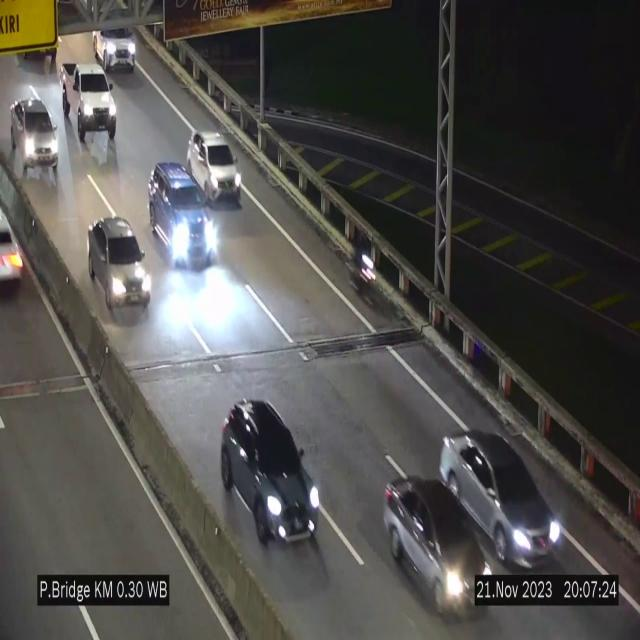Car: (438, 426, 561, 571), (219, 401, 329, 546), (386, 471, 492, 615), (148, 162, 218, 266), (88, 218, 151, 322), (59, 55, 122, 143), (8, 99, 62, 178), (186, 130, 242, 204), (93, 10, 143, 69), (0, 198, 24, 310)
Motorcycle: (351, 224, 378, 302)
